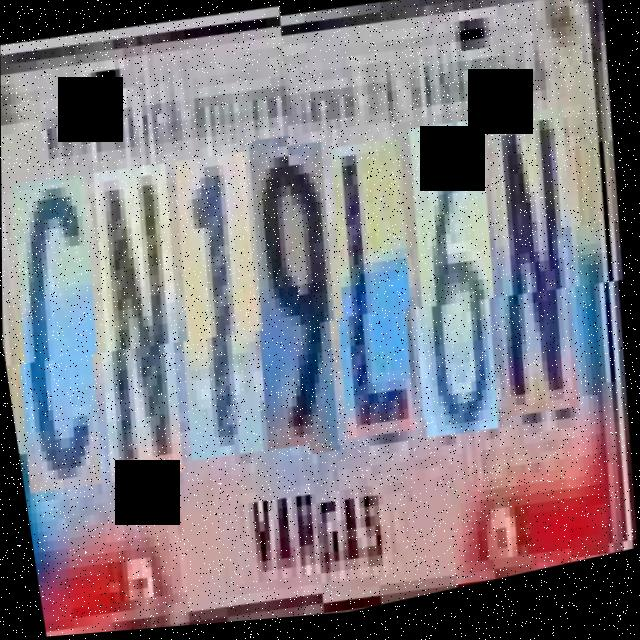1: (160, 153, 292, 476)
6: (392, 110, 527, 443)
9: (234, 133, 369, 466)
C: (1, 175, 131, 508)
L: (318, 132, 444, 443)
N: (78, 165, 212, 498), (473, 99, 606, 422)
